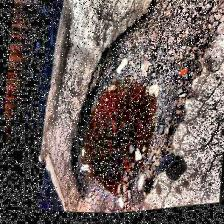pothole: (63, 70, 166, 210)
